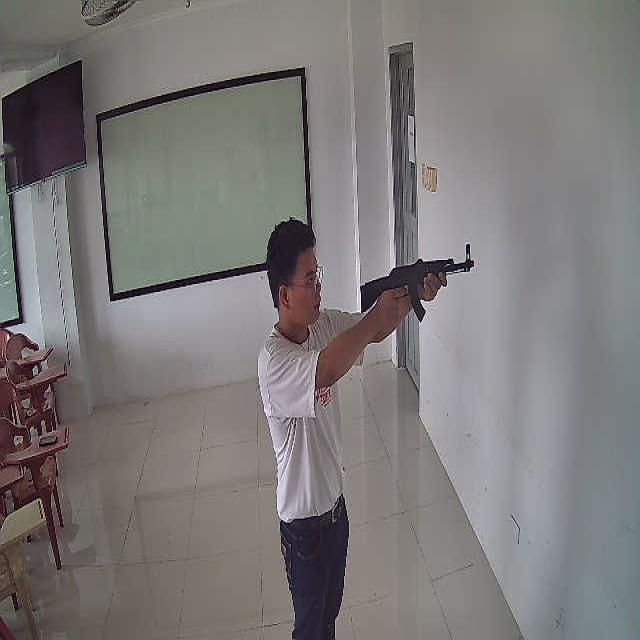rifle: (360, 244, 474, 323)
